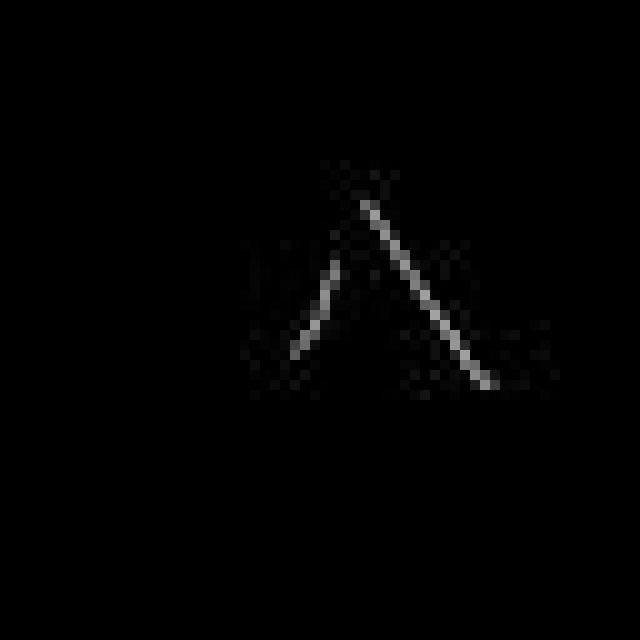8 -eight-: (274, 177, 502, 406)
